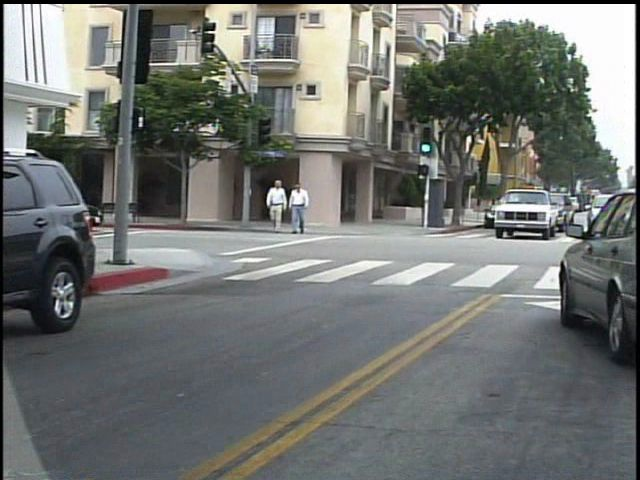person: (293, 178, 320, 239), (271, 177, 294, 240)
